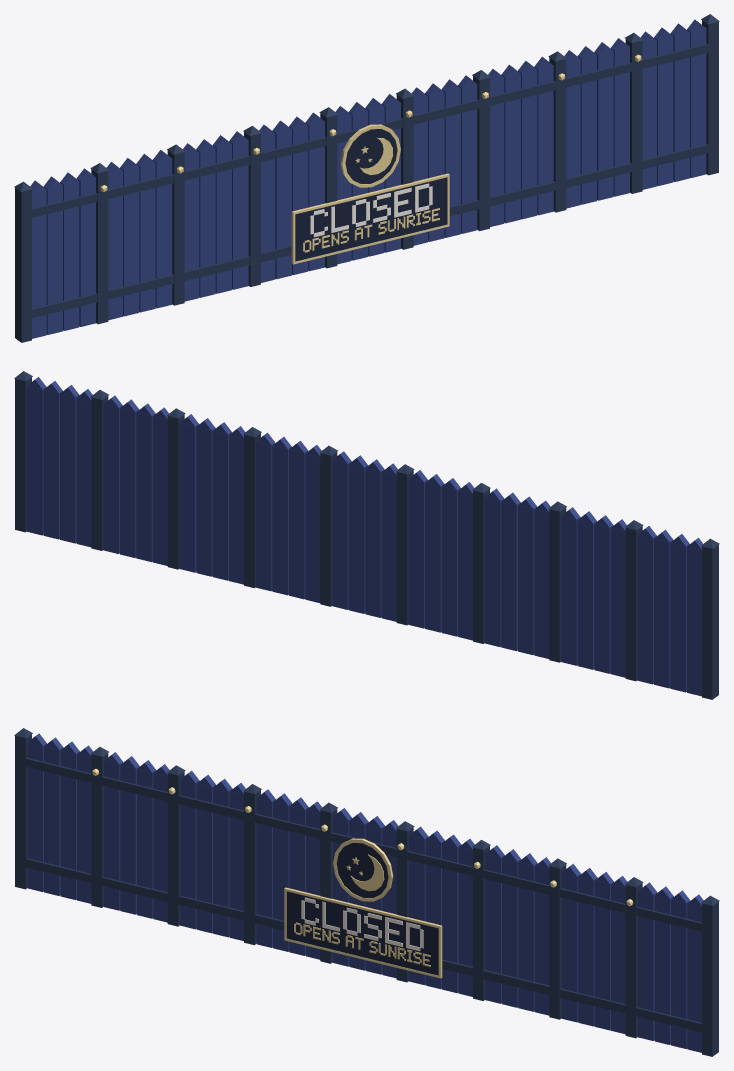
Rendered from CatCafe_Alley_NightFence.glb.
3 views of the same model, one above another, from view 1: azimuth 30°, elevation 25°; view 2: azimuth 150°, elevation 25°; view 3: azimuth 330°, elevation 25° (orthographic).
Parts seen in each view (by area): view 1: CatCafe_Alley_NightFence, CatCafe_Alley_NightFence_Moon_Bulb; view 2: CatCafe_Alley_NightFence; view 3: CatCafe_Alley_NightFence, CatCafe_Alley_NightFence_Moon_Bulb.
Part boxes in pixels (x1,y1,x2,y2): CatCafe_Alley_NightFence: (14, 14, 719, 342); CatCafe_Alley_NightFence_Moon_Bulb: (100, 54, 641, 264); CatCafe_Alley_NightFence: (14, 371, 719, 699); CatCafe_Alley_NightFence: (14, 728, 719, 1056); CatCafe_Alley_NightFence_Moon_Bulb: (92, 768, 633, 978).
Size of the model in its own units: 40.06 by 8.64 by 0.9251.
1 material, 1 textured.
